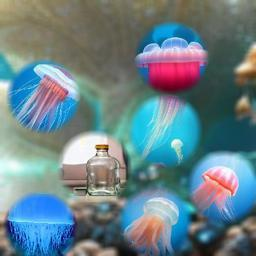not an animal: (81, 141, 125, 201)
